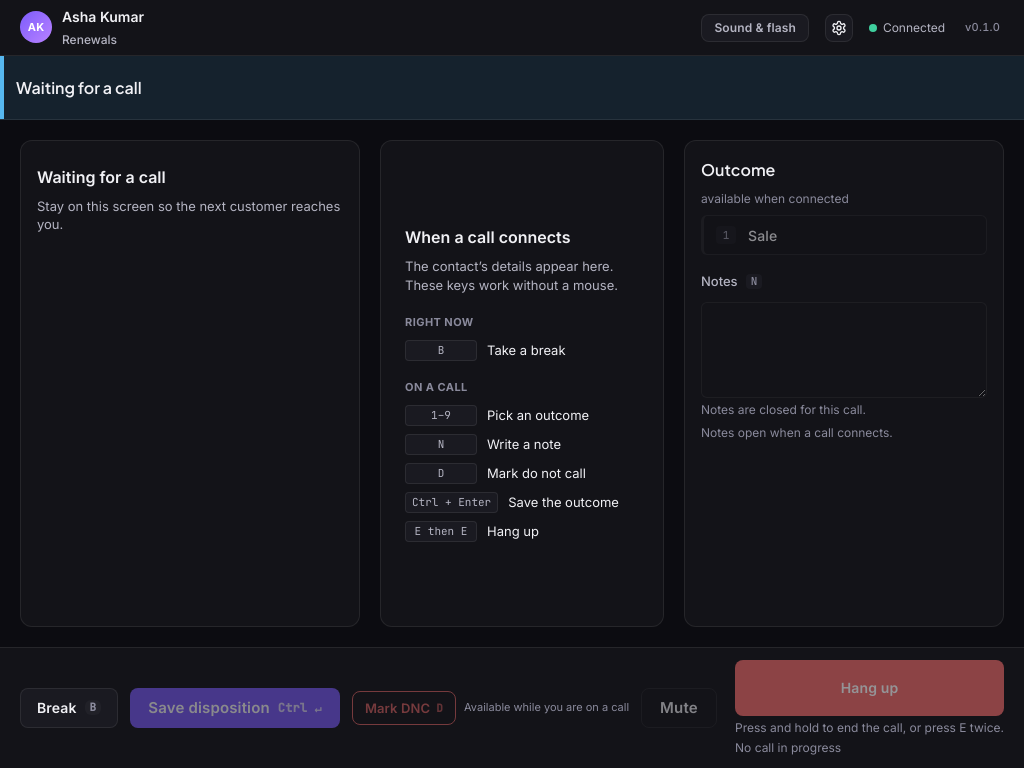
Test: AgentConsolePage — the station menu › hides Exit station from an agent — it would navigate them into a workspace they cannot see
Click the button named "Station options": (839, 28) [825,14,853,42]
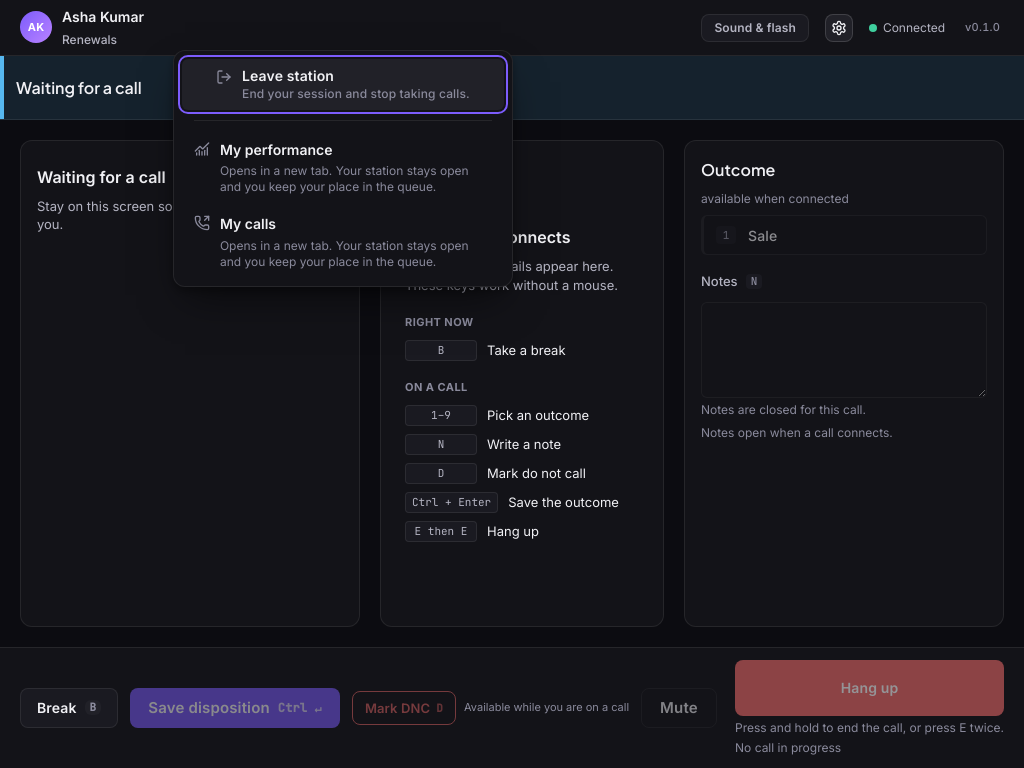
Expected: the menu item with test id "leave-station" is shown, [182,58,504,110]
